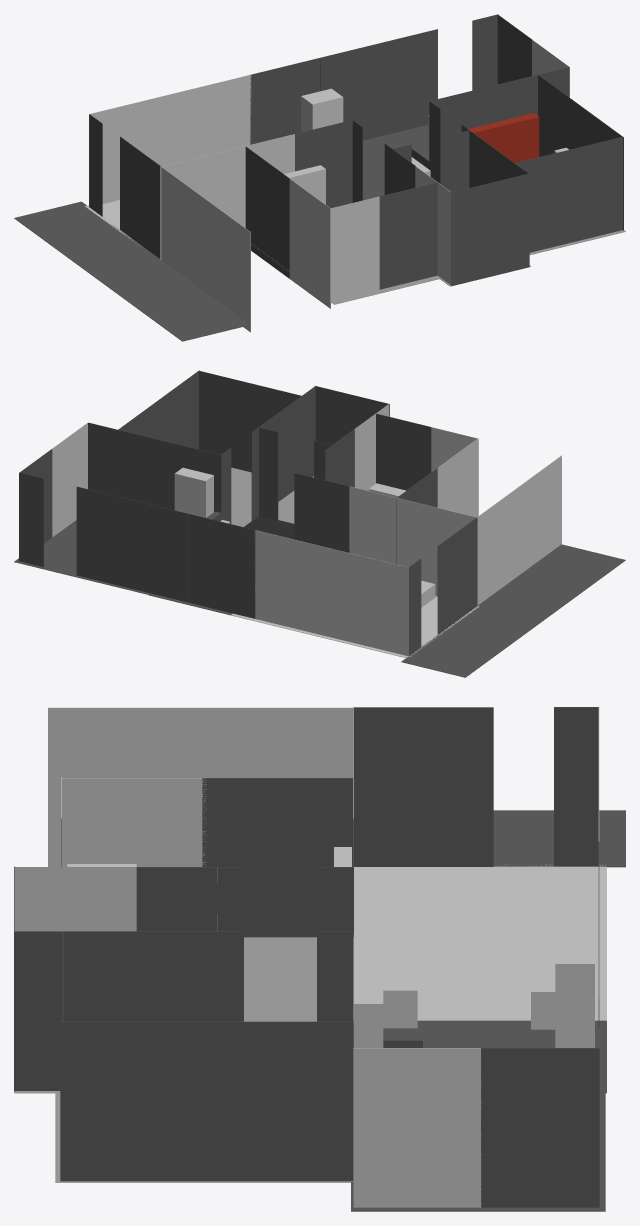
Rendered from map.obj.
3 renders of one model, top to bottom at view 1: azimuth 30°, elevation 25°; view 2: azimuth 150°, elevation 25°; view 3: azimuth 270°, elevation 25°, orthographic. The views are drawn at different scales.
Parts seen in each view (by area): view 1: chaocorredorfora_Cube.035, chaosala.015_Cube.024, chaosala.021_Cube.032, chaosala.014_Cube.053, chaosala.016_Cube.025, chaosala.007_Cube.012, chaosala.003_Cube.007, chaosala.025_Cube.015, chaosala.006_Cube.010, chaosala.031_Cube.063, chaosala.028_Cube.027, chaosala.001_Cube.005 (+25 smaller); view 2: chaocorredorfora_Cube.035, chaosala.014_Cube.053, chaosala.003_Cube.007, chaosala.007_Cube.012, chaosala.001_Cube.005, chaosala.015_Cube.024, chaosala.028_Cube.027, chaosala.004_Cube.008, chaosala.031_Cube.063, chaosala.000_Cube.057, chaosala.002_Cube.006, chaosala.030_Cube.062 (+25 smaller); view 3: chaosala.010_Cube.016, chaosala.020_Cube.034, chaosala.029_Cube.061, chaosala.008_Cube.013, chaosala.006_Cube.010, chaosala.012_Cube.019, chaosala.026_Cube.017, chaosalap3_Cube.055, chaosala.031_Cube.063, chaosala.030_Cube.062, chaosalap2_Cube.054, chaosala.022_Cube.041 (+16 smaller).
Boxes of the visible parts, bbox=[...] form: chaocorredorfora_Cube.035: bbox=[14, 201, 249, 341]; chaosala.015_Cube.024: bbox=[515, 137, 622, 252]; chaosala.021_Cube.032: bbox=[451, 173, 529, 286]; chaosala.014_Cube.053: bbox=[89, 89, 191, 206]; chaosala.016_Cube.025: bbox=[379, 182, 437, 289]; chaosala.007_Cube.012: bbox=[320, 40, 393, 140]; chaosala.003_Cube.007: bbox=[429, 67, 569, 189]; chaosala.025_Cube.015: bbox=[330, 196, 379, 302]; chaosala.006_Cube.010: bbox=[245, 146, 289, 278]; chaosala.031_Cube.063: bbox=[205, 199, 250, 332]; chaosala.028_Cube.027: bbox=[191, 75, 251, 158]; chaosala.001_Cube.005: bbox=[250, 58, 319, 144]; chaocorredorfora_Cube.035: bbox=[401, 544, 625, 677]; chaosala.014_Cube.053: bbox=[310, 544, 408, 656]; chaosala.003_Cube.007: bbox=[88, 422, 221, 520]; chaosala.007_Cube.012: bbox=[119, 497, 188, 602]; chaosala.001_Cube.005: bbox=[189, 514, 255, 618]; chaosala.015_Cube.024: bbox=[199, 370, 301, 472]; chaosala.028_Cube.027: bbox=[254, 530, 311, 632]; chaosala.004_Cube.008: bbox=[76, 486, 119, 585]; chaosala.031_Cube.063: bbox=[519, 455, 561, 574]; chaosala.000_Cube.057: bbox=[395, 497, 477, 606]; chaosala.002_Cube.006: bbox=[294, 473, 349, 552]; chaosala.030_Cube.062: bbox=[477, 487, 518, 604]; chaosala.010_Cube.016: bbox=[60, 1021, 352, 1181]; chaosala.020_Cube.034: bbox=[353, 707, 493, 866]; chaosala.029_Cube.061: bbox=[353, 1048, 481, 1207]; chaosala.008_Cube.013: bbox=[481, 1048, 599, 1207]; chaosala.006_Cube.010: bbox=[202, 778, 353, 937]; chaosala.012_Cube.019: bbox=[63, 931, 243, 1021]; chaosala.026_Cube.017: bbox=[62, 778, 206, 866]; chaosalap3_Cube.055: bbox=[353, 864, 606, 948]; chaosala.031_Cube.063: bbox=[48, 707, 201, 866]; chaosala.030_Cube.062: bbox=[200, 707, 352, 777]; chaosalap2_Cube.054: bbox=[353, 947, 606, 1020]; chaosala.022_Cube.041: bbox=[14, 931, 62, 1090].
Bounding box in the file's own units: 287 × 57.42 × 185.
